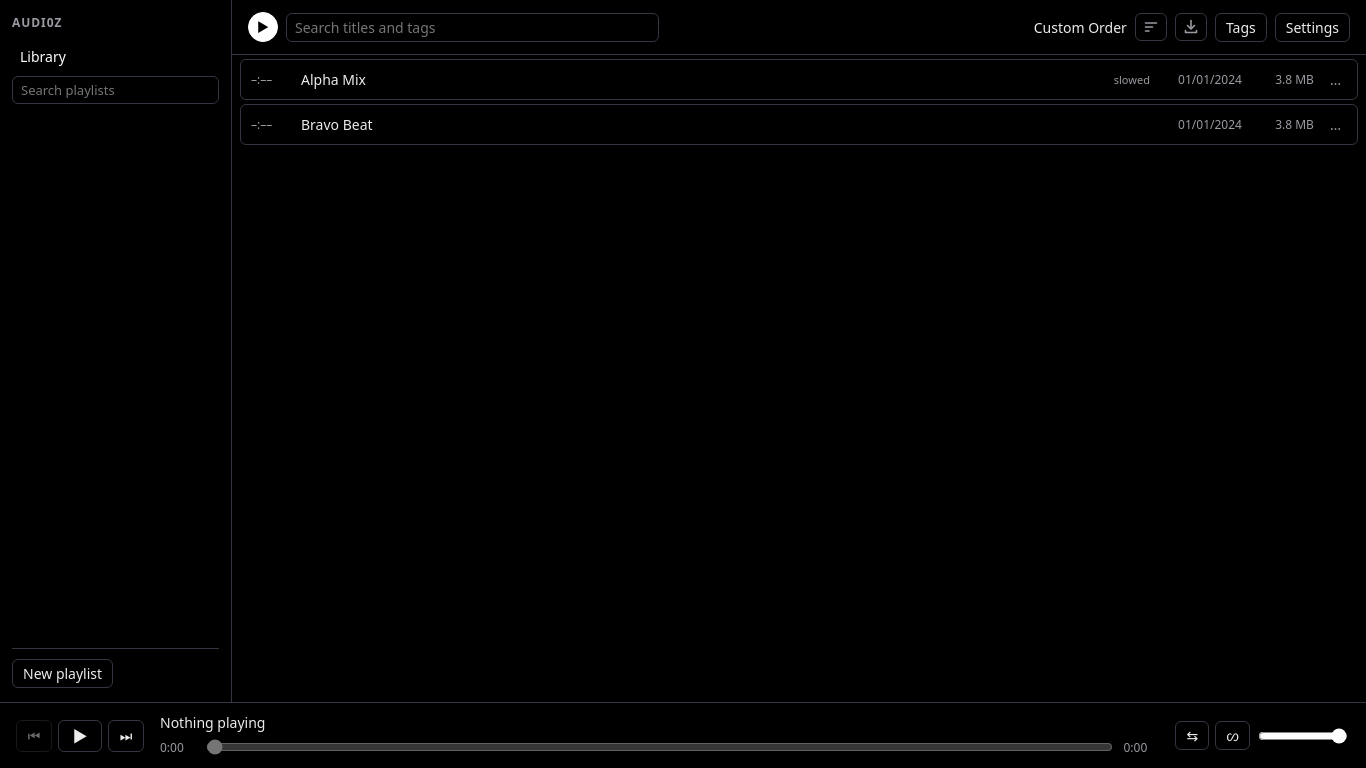
Test: SongRow menu › opens the edit dialog from the menu, and closes the menu behind it
Step 1. Click the button named "Options for Alpha Mix" → (1335, 80), box [1324,71,1347,89]
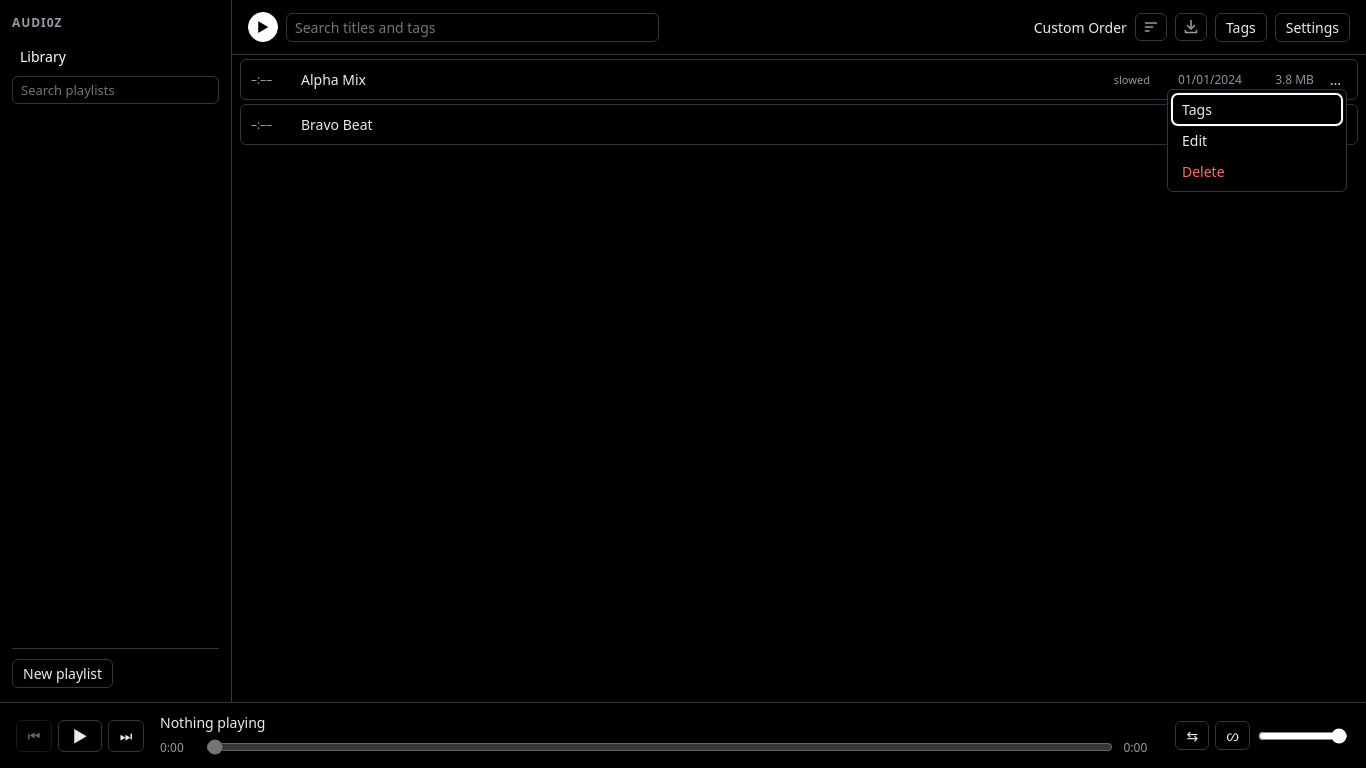
Step 2. Click the menu item "Edit" → (1257, 140), box [1172,125,1342,156]
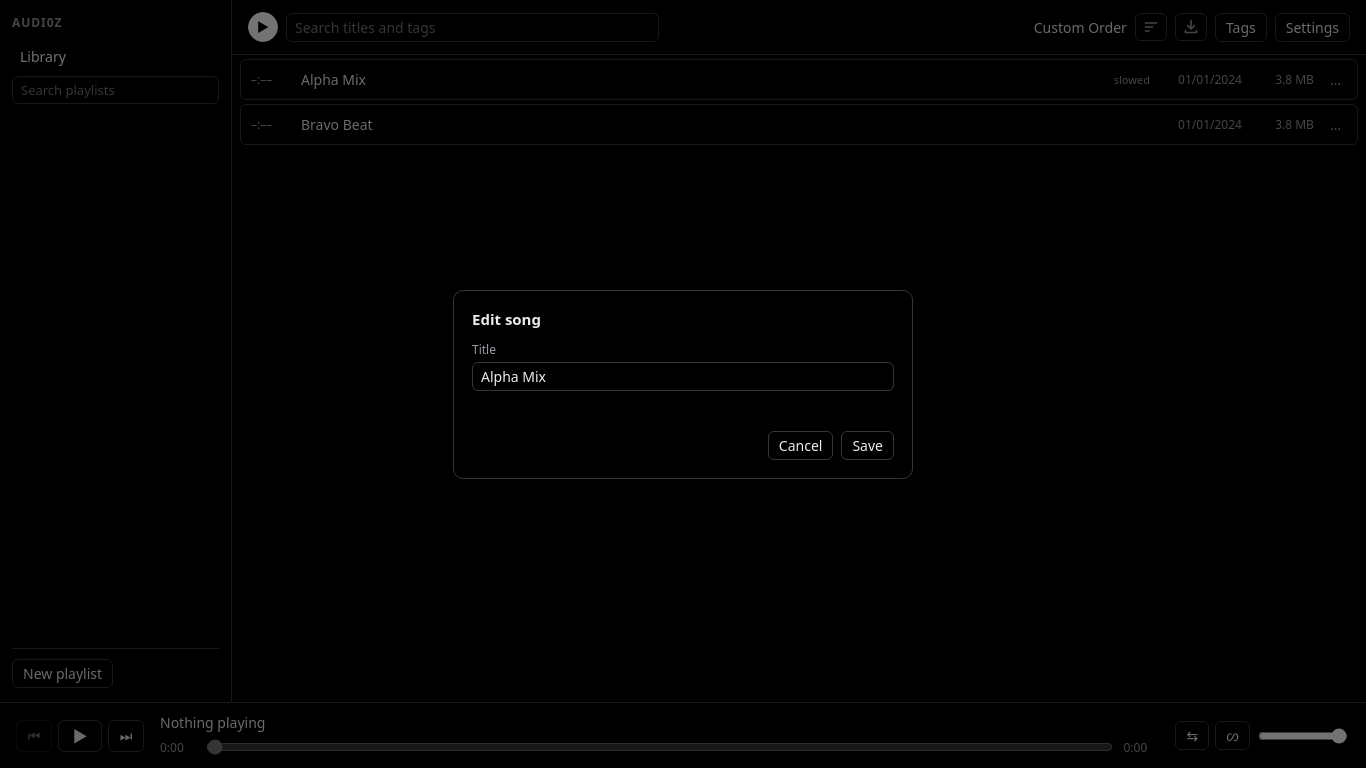
Now the dialog "Edit song" is shown, box [453,290,913,478]
Now the field labelled "Title" holds "Alpha Mix", box [472,362,894,390]
Now the menu is gone
